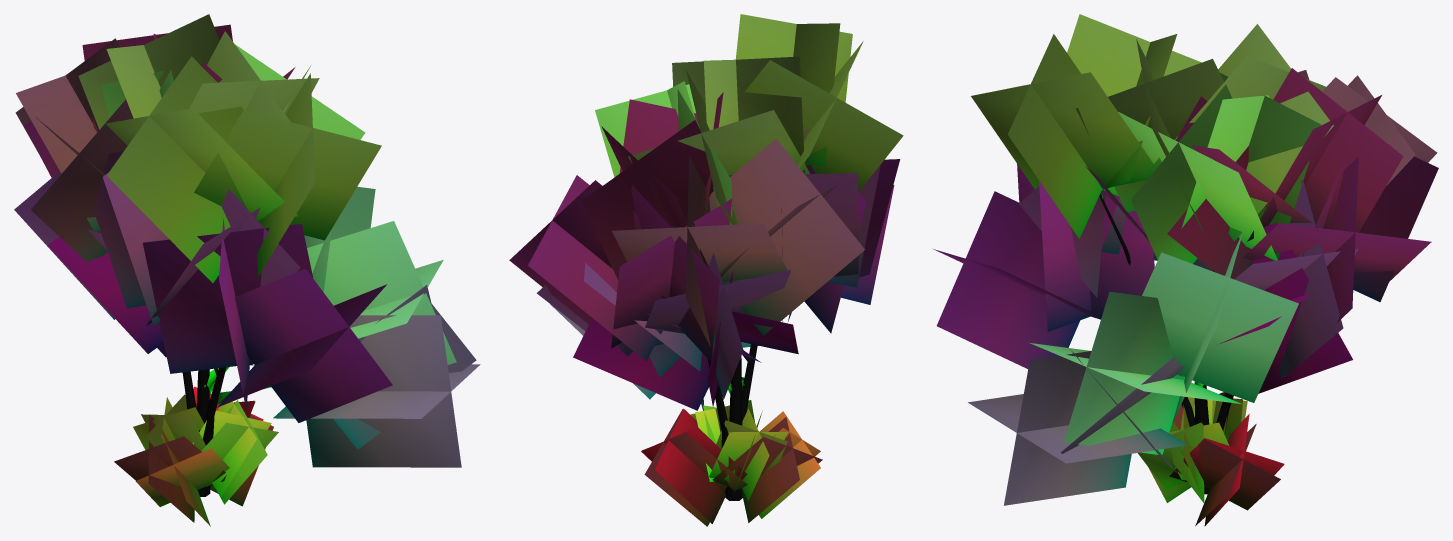
Rendered from URP_P12_Tree_10_LOD_3.fbx.
3 views of the same model, side by side, from view 1: azimuth 30°, elevation 25°; view 2: azimuth 150°, elevation 25°; view 3: azimuth 270°, elevation 25° (orthographic). The views are drawn at different scales.
Parts seen in each view (by area): view 1: Tree_10_LOD_3; view 2: Tree_10_LOD_3; view 3: Tree_10_LOD_3.
Part boxes in pixels (x1=…): Tree_10_LOD_3: x1=14, y1=14, x2=480, y2=526; Tree_10_LOD_3: x1=509, y1=14, x2=903, y2=526; Tree_10_LOD_3: x1=933, y1=14, x2=1438, y2=526.
Bounding box in the file's own units: 177 × 219 × 215.
